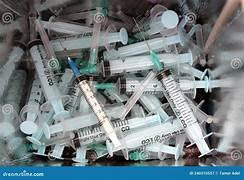Syringe: (68, 58, 121, 146), (157, 70, 210, 155), (30, 45, 68, 118), (103, 34, 182, 58), (123, 120, 184, 150), (0, 70, 25, 140), (120, 71, 155, 119), (44, 113, 96, 138), (20, 77, 42, 134), (0, 47, 23, 96), (35, 19, 58, 68), (102, 55, 153, 75), (26, 109, 53, 144), (26, 110, 53, 145), (178, 76, 232, 93), (142, 10, 178, 35), (89, 7, 103, 64), (139, 95, 170, 120), (112, 115, 160, 131), (41, 21, 91, 34), (98, 28, 127, 45), (179, 63, 207, 79)
